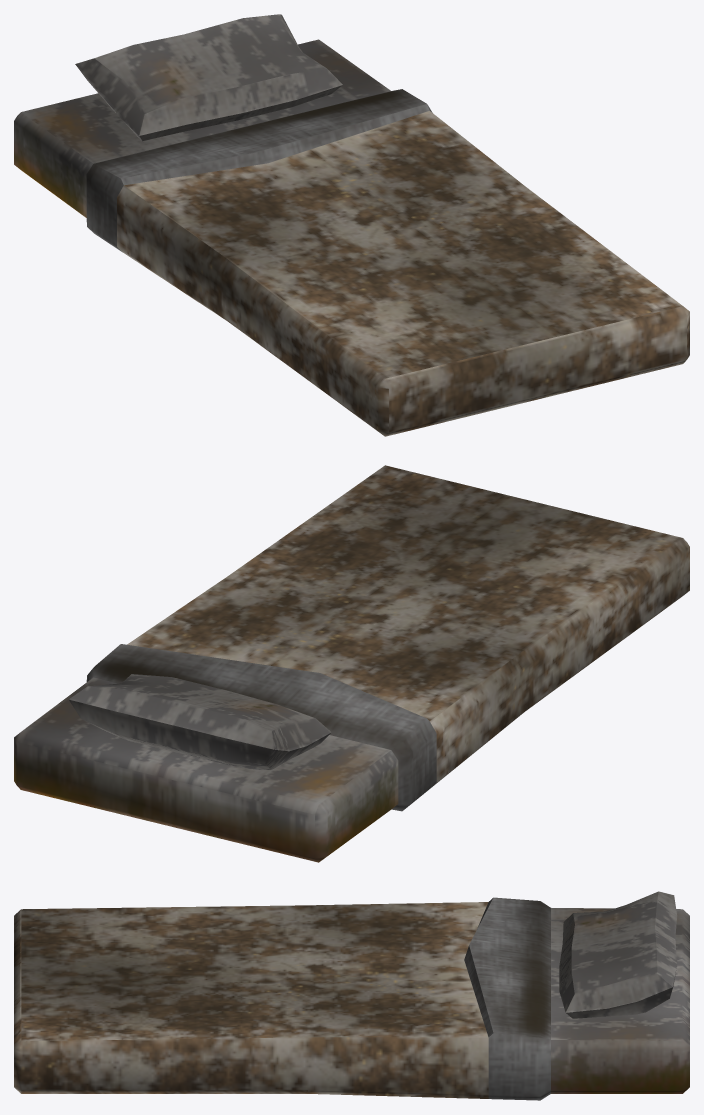
File: bed.glb
3 renders of one model, top to bottom at view 1: azimuth 30°, elevation 25°; view 2: azimuth 150°, elevation 25°; view 3: azimuth 270°, elevation 25°, orthographic. The views are drawn at different scales.
Visible parts, largest first — view 1: Bed_Single_Cube.044; view 2: Bed_Single_Cube.044; view 3: Bed_Single_Cube.044.
Boxes of the visible parts, x1,y1,x2,y2 form: Bed_Single_Cube.044: (14,14,689,436); Bed_Single_Cube.044: (14,465,689,862); Bed_Single_Cube.044: (14,891,689,1100).
Bounding box in the file's own units: 0.9928 × 0.3432 × 1.99.
3 materials, 3 textured.
